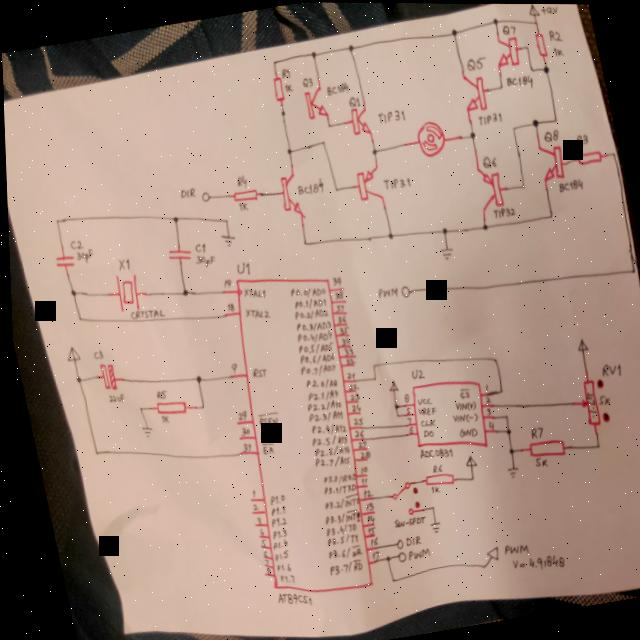capacitor: (93, 359, 115, 391), (163, 243, 190, 263), (50, 251, 72, 270)
ground: (216, 230, 234, 247), (436, 243, 452, 260), (135, 424, 150, 438), (501, 464, 516, 478), (424, 519, 437, 533)
junction: (539, 62, 549, 73), (528, 115, 538, 126), (466, 128, 475, 139), (499, 425, 508, 435), (502, 445, 511, 454), (177, 286, 185, 296), (168, 213, 176, 223), (383, 229, 391, 239), (478, 220, 486, 230), (487, 353, 495, 363), (437, 225, 445, 234), (66, 287, 74, 296), (448, 26, 456, 35), (490, 15, 498, 24), (298, 237, 306, 246), (495, 81, 503, 90), (283, 145, 290, 154), (191, 373, 198, 382), (369, 145, 376, 154), (345, 42, 352, 51), (493, 385, 500, 394), (498, 410, 505, 419), (72, 313, 79, 322), (308, 48, 315, 57), (51, 216, 58, 225), (549, 114, 556, 123), (366, 360, 373, 369), (367, 372, 374, 381), (626, 264, 633, 273), (526, 63, 533, 72), (607, 147, 614, 156), (71, 374, 78, 383), (589, 439, 596, 447), (194, 401, 201, 409), (508, 123, 515, 131), (544, 210, 551, 218), (269, 57, 276, 65), (88, 447, 95, 455), (317, 137, 324, 145), (517, 180, 523, 189), (384, 575, 391, 582), (323, 120, 330, 127), (133, 404, 139, 411), (331, 184, 337, 191), (220, 216, 226, 223), (531, 17, 537, 24), (380, 553, 385, 561), (464, 473, 469, 480), (523, 42, 528, 49), (425, 502, 430, 509), (389, 401, 394, 408), (475, 561, 480, 567), (391, 412, 395, 416)
resistor: (571, 376, 599, 426), (521, 434, 562, 459), (151, 396, 184, 417), (418, 469, 451, 487), (573, 147, 601, 165), (229, 187, 256, 203), (269, 74, 284, 102), (532, 29, 547, 56)
source: (60, 344, 77, 361), (459, 452, 473, 468), (571, 335, 585, 351), (382, 377, 394, 391), (526, 3, 538, 16)
switch: (384, 479, 411, 516)
terminal: (479, 544, 495, 560), (196, 189, 209, 201), (396, 283, 407, 296), (391, 549, 401, 560), (390, 536, 399, 547)
text: (502, 547, 562, 576), (269, 585, 307, 609), (124, 302, 161, 323), (317, 491, 356, 510), (295, 358, 333, 377), (318, 506, 356, 525), (413, 441, 449, 461), (290, 315, 329, 333), (291, 326, 330, 344), (285, 281, 323, 299), (293, 337, 331, 355), (294, 348, 332, 366), (305, 418, 343, 436), (305, 430, 343, 448), (308, 440, 346, 458), (309, 450, 347, 468), (289, 303, 326, 321), (302, 406, 339, 424), (321, 542, 358, 560), (237, 301, 268, 322), (322, 556, 358, 574), (299, 372, 334, 390), (235, 281, 264, 302), (374, 105, 405, 124), (301, 396, 337, 412), (317, 468, 353, 484), (503, 70, 533, 89), (302, 386, 335, 403), (294, 176, 322, 196), (387, 511, 422, 527), (317, 479, 352, 495), (379, 173, 409, 191), (290, 294, 323, 310), (495, 538, 524, 556), (320, 520, 352, 536), (320, 530, 353, 545), (473, 108, 501, 125), (594, 359, 619, 378), (488, 201, 514, 219), (554, 176, 582, 192), (579, 389, 594, 417), (323, 79, 349, 95), (70, 245, 93, 263), (252, 409, 276, 426), (191, 251, 214, 268), (373, 283, 396, 299), (463, 54, 486, 70), (401, 544, 425, 559), (448, 409, 473, 423), (453, 423, 474, 438), (450, 397, 472, 411), (540, 125, 558, 142), (412, 401, 433, 415), (231, 258, 248, 275), (246, 363, 264, 379), (102, 390, 122, 404), (176, 184, 194, 199), (478, 152, 495, 167), (264, 513, 282, 527), (267, 547, 285, 561), (546, 25, 561, 41), (524, 424, 541, 438), (398, 532, 416, 545), (263, 491, 281, 504), (256, 439, 271, 454), (113, 256, 128, 271), (499, 21, 515, 35), (405, 365, 421, 379), (254, 427, 271, 440), (264, 502, 281, 515), (265, 526, 282, 539), (266, 536, 283, 549), (65, 237, 82, 250), (592, 391, 607, 405), (572, 131, 587, 145), (273, 571, 289, 584), (528, 454, 544, 467), (345, 93, 359, 107), (270, 560, 286, 572), (233, 173, 245, 189), (538, 3, 557, 13), (415, 415, 432, 426), (150, 387, 165, 399), (299, 74, 312, 87), (550, 43, 563, 56), (454, 385, 467, 398), (190, 241, 204, 253), (412, 394, 427, 405), (345, 400, 357, 413), (362, 534, 375, 546), (231, 408, 244, 420), (235, 439, 248, 451), (88, 347, 100, 360), (327, 274, 339, 286), (348, 414, 360, 426), (221, 300, 233, 311), (335, 335, 347, 346), (234, 424, 246, 435), (278, 67, 289, 79), (426, 461, 438, 472), (353, 448, 366, 458), (417, 426, 430, 436), (218, 276, 229, 287), (364, 548, 375, 559), (329, 288, 340, 299), (349, 426, 360, 437), (357, 486, 368, 497), (360, 512, 371, 523), (235, 199, 246, 210), (334, 324, 346, 334), (338, 345, 350, 355), (344, 390, 356, 400), (330, 302, 341, 312), (332, 313, 343, 323), (343, 381, 356, 389), (425, 483, 435, 493), (155, 413, 165, 423), (341, 355, 352, 364), (352, 438, 363, 447), (341, 369, 351, 378), (354, 464, 364, 473), (359, 500, 369, 509), (361, 524, 371, 533), (282, 81, 291, 91), (482, 417, 490, 428), (398, 391, 406, 402), (226, 361, 234, 372), (355, 474, 363, 484), (246, 501, 254, 509), (480, 393, 488, 401), (255, 537, 262, 546), (403, 424, 410, 433), (480, 405, 487, 414), (246, 487, 252, 497), (400, 405, 407, 413), (250, 514, 256, 523), (253, 526, 259, 535), (257, 548, 262, 557), (260, 565, 265, 574), (480, 381, 485, 390), (402, 415, 407, 423), (258, 557, 263, 564)
transistor: (273, 169, 304, 221), (471, 162, 503, 209), (456, 69, 488, 112), (533, 140, 565, 180), (351, 163, 382, 203), (489, 33, 521, 68), (300, 84, 327, 119), (345, 103, 370, 137)
